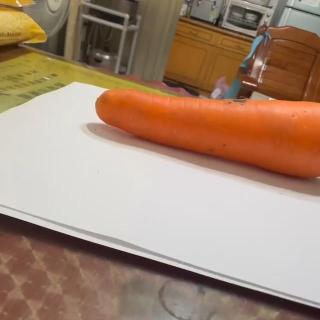carrot: (95, 87, 320, 178)
